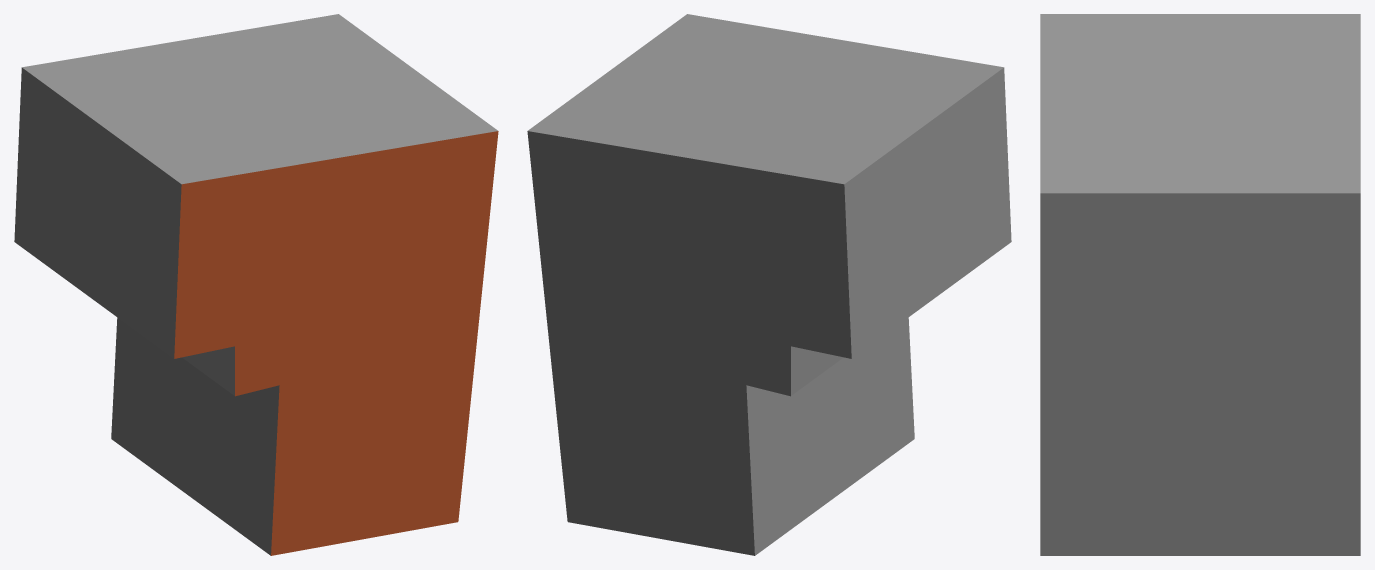
The model's file is construction_1522_assumed_A_Casa_h6m.obj.
3 views of the same model, side by side, from view 1: azimuth 30°, elevation 25°; view 2: azimuth 150°, elevation 25°; view 3: azimuth 270°, elevation 25° (orthographic).
Parts seen in each view (by area): view 1: construction_1522_assumed_A_Casa; view 2: construction_1522_assumed_A_Casa; view 3: construction_1522_assumed_A_Casa.
Boxes of the visible parts, x1,y1,x2,y2 form: construction_1522_assumed_A_Casa: (14, 14, 498, 555); construction_1522_assumed_A_Casa: (527, 14, 1011, 555); construction_1522_assumed_A_Casa: (1040, 14, 1360, 555).
Bounding box in the file's own units: 7.03 × 8.39 × 6.
